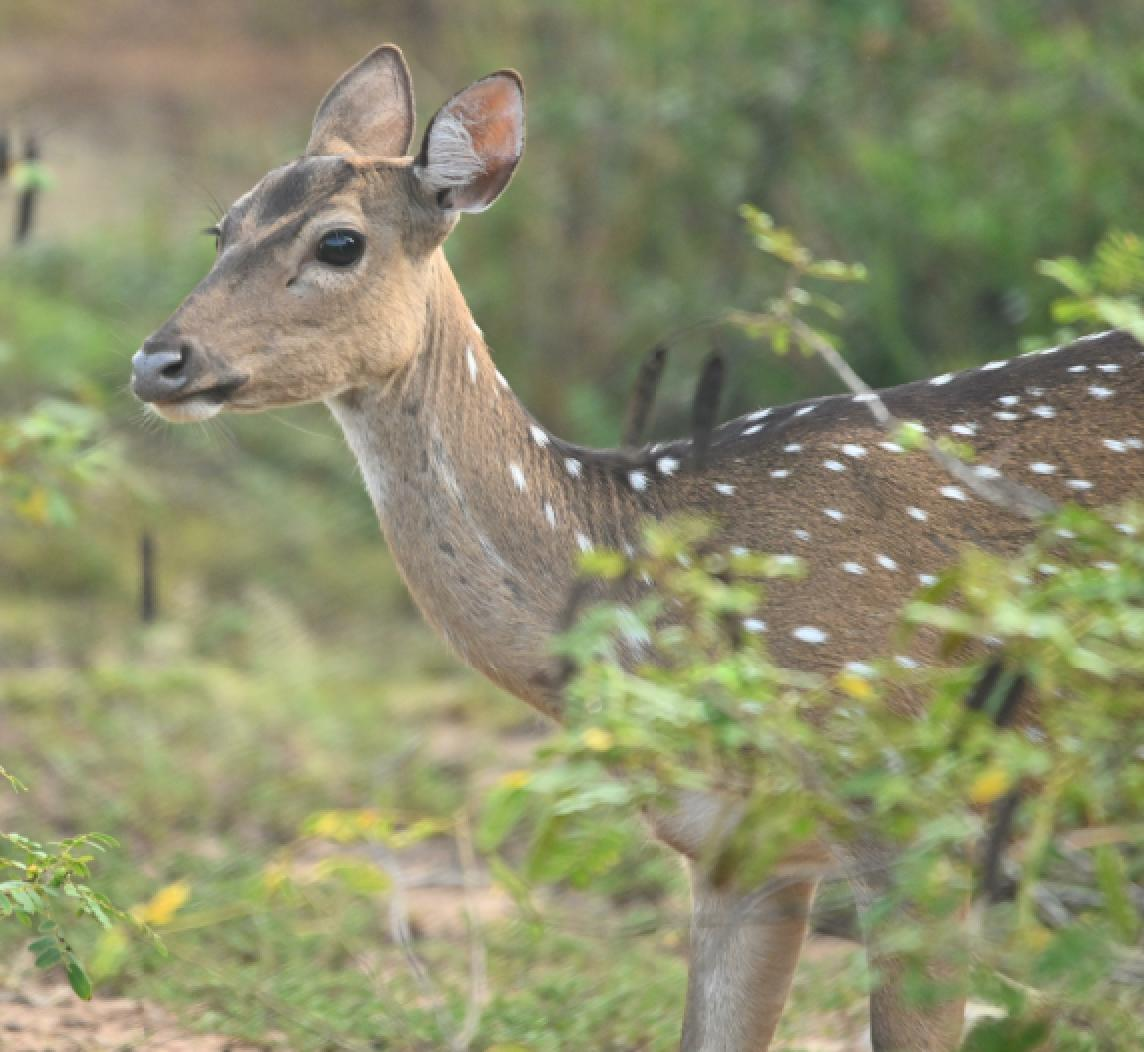Deer: (132, 45, 1143, 716)
